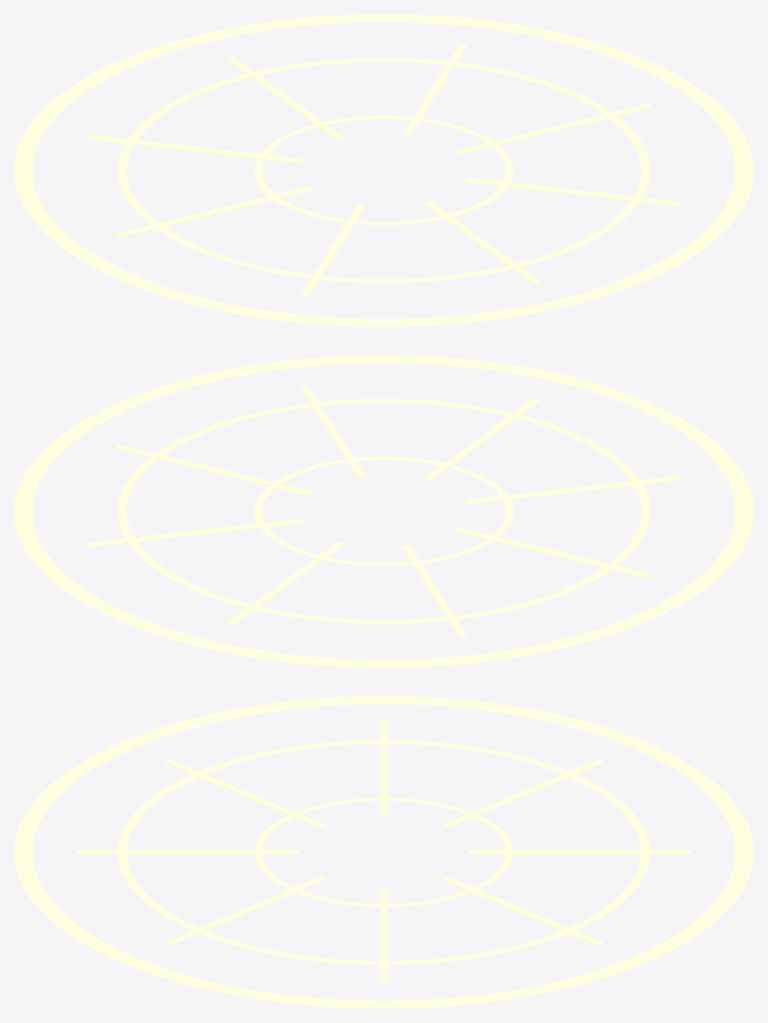
File: Seal_Boss.fbx
3 renders of one model, top to bottom at view 1: azimuth 30°, elevation 25°; view 2: azimuth 150°, elevation 25°; view 3: azimuth 270°, elevation 25°, orthographic.
Parts seen in each view (by area): view 1: Seal_Boss; view 2: Seal_Boss; view 3: Seal_Boss.
Boxes of the visible parts, x1=… form: Seal_Boss: x1=14, y1=14, x2=753, y2=326; Seal_Boss: x1=14, y1=355, x2=753, y2=667; Seal_Boss: x1=14, y1=696, x2=753, y2=1008.
Bounding box in the file's own units: 12 × 0.02 × 12.
